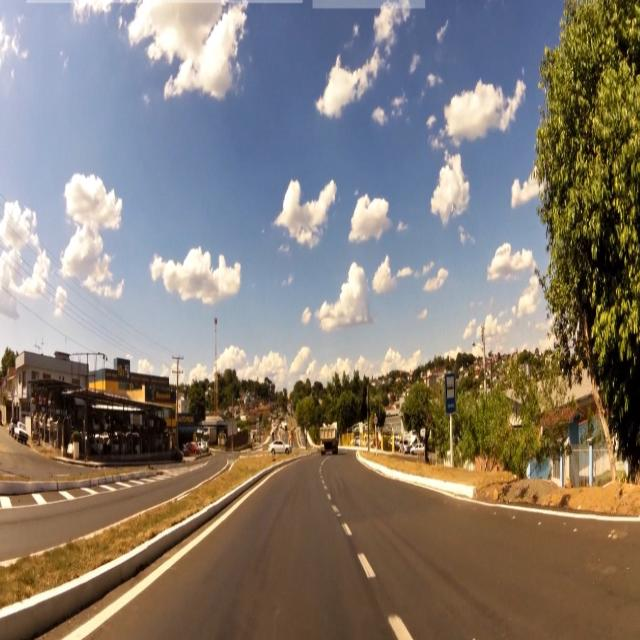S-14: (445, 374, 455, 414)
